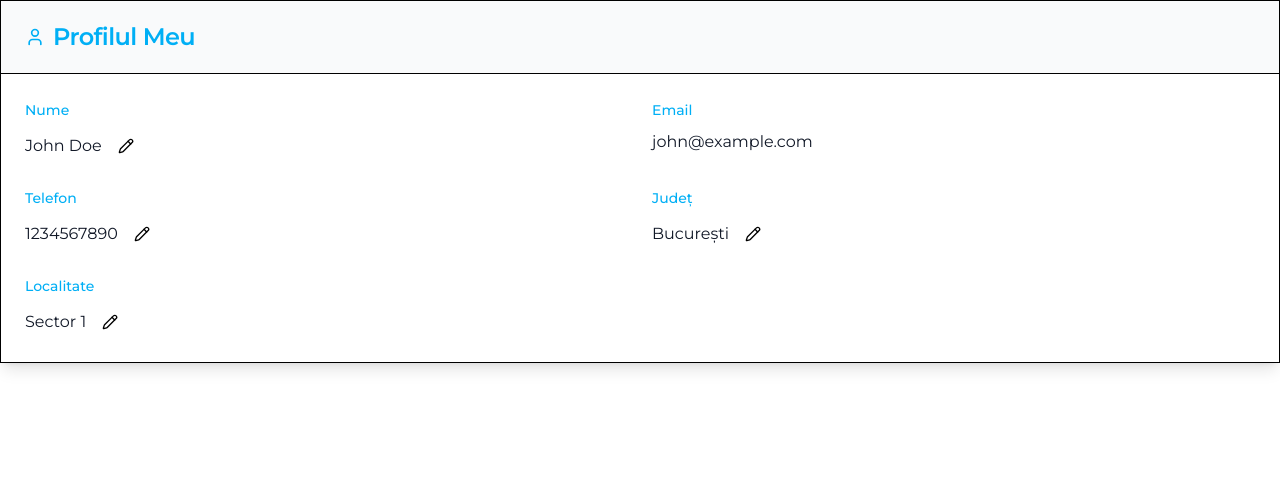
Test: ProfileSection › enters edit mode when edit button is clicked
Find and click the edit name button
Click the button named "edit name".
click(126, 146)  # box [110, 130, 142, 162]
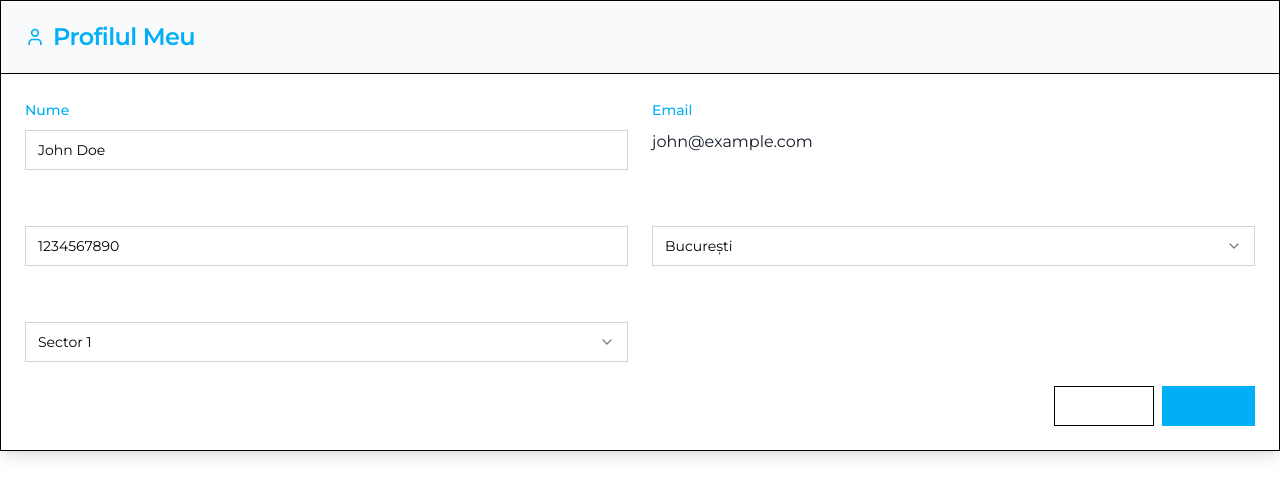
Check: the field showing "John Doe" below "Nume" is shown, box [25, 130, 628, 170]
Check: the button "Salvează" is shown, box [1162, 386, 1255, 426]
